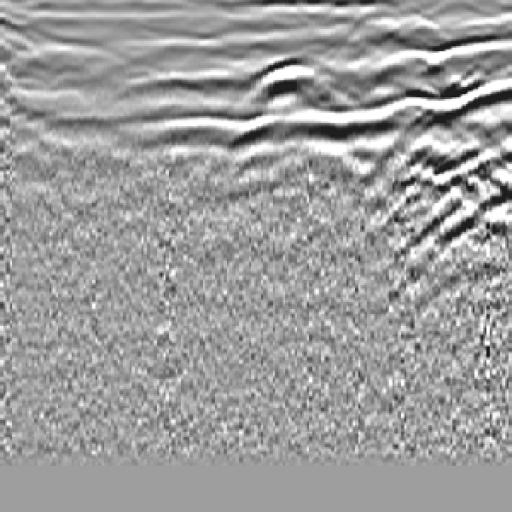metalic: (243, 50, 353, 106)
